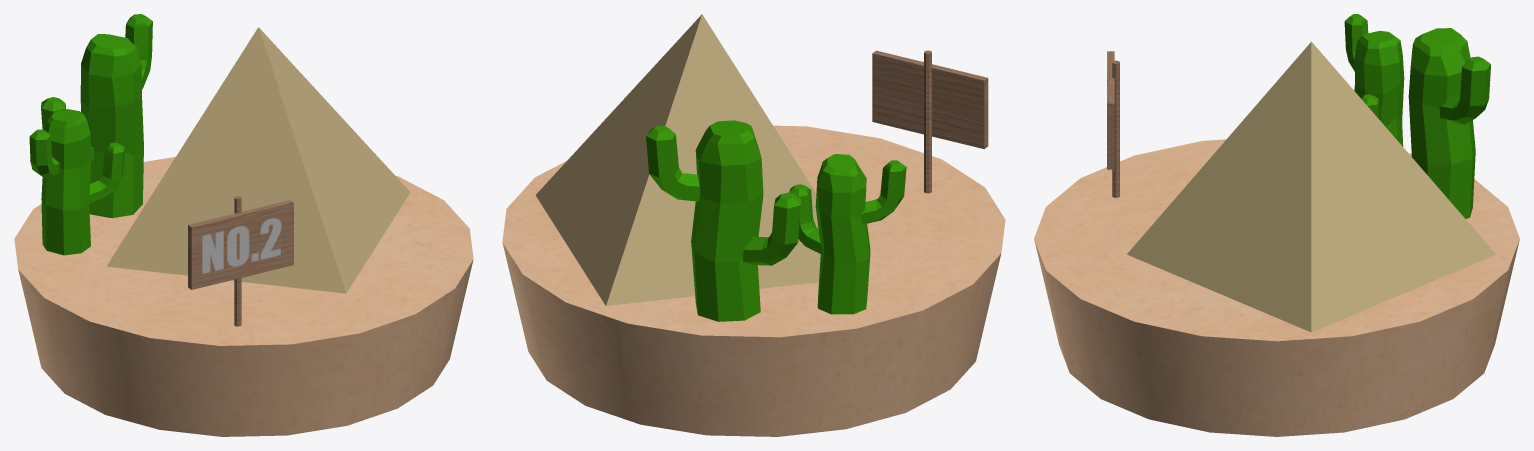
File: StageModel2.fbx
3 renders of one model, left to right at view 1: azimuth 30°, elevation 25°; view 2: azimuth 150°, elevation 25°; view 3: azimuth 270°, elevation 25°, orthographic. The views are drawn at different scales.
Visible parts, largest first — view 1: map2; view 2: map2; view 3: map2.
Part boxes in pixels (x1=…): map2: x1=14, y1=14, x2=473, y2=436; map2: x1=502, y1=14, x2=1005, y2=436; map2: x1=1034, y1=14, x2=1519, y2=436.
Bounding box in the file's own units: 9.61 × 6.97 × 9.61.
